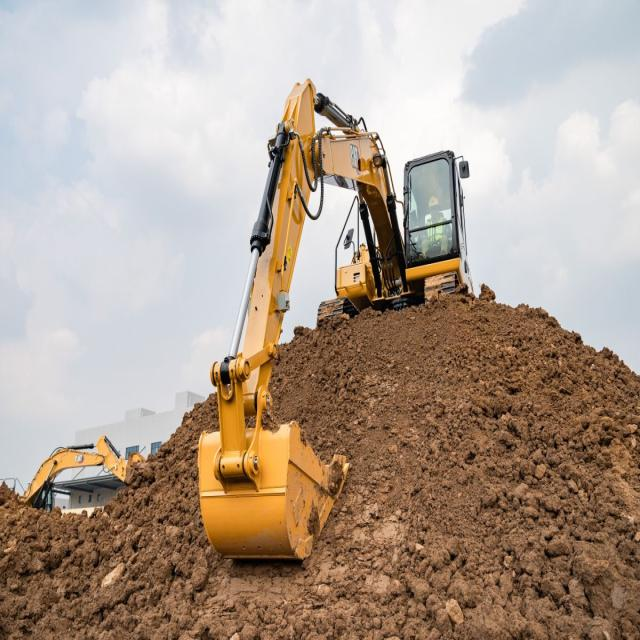excavator: (193, 74, 477, 556), (1, 432, 147, 517)
